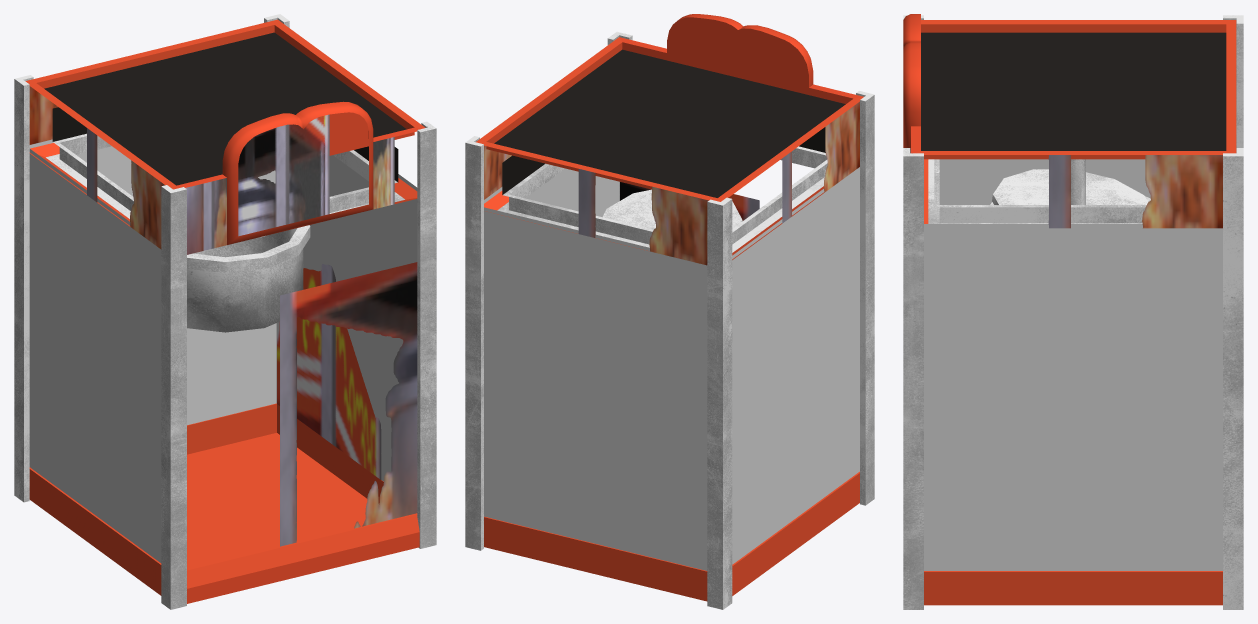
File: Popcorn Machine.fbx
3 renders of one model, left to right at view 1: azimuth 30°, elevation 25°; view 2: azimuth 150°, elevation 25°; view 3: azimuth 270°, elevation 25°, orthographic. The views are drawn at different scales.
Parts seen in each view (by area): view 1: LOD0; view 2: LOD0; view 3: LOD0.
Part boxes in pixels (left/top/right/bottom): LOD0: left=14, top=14, right=436, bottom=609; LOD0: left=465, top=14, right=874, bottom=609; LOD0: left=903, top=14, right=1243, bottom=609.
Size of what is drawn, in the model's own units: 58.82 by 97.54 by 59.95.
